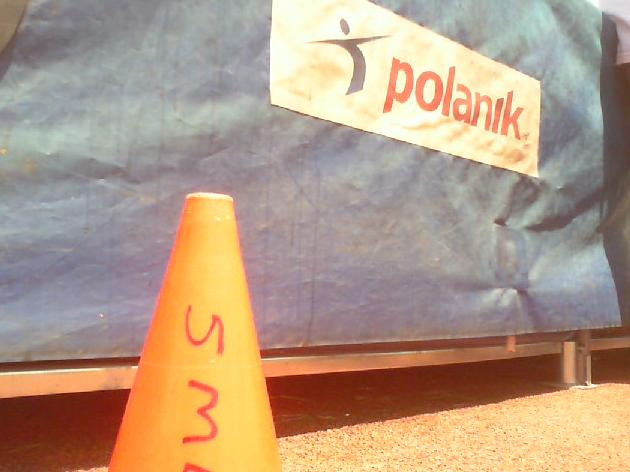0 cone: (106, 192, 282, 472)
